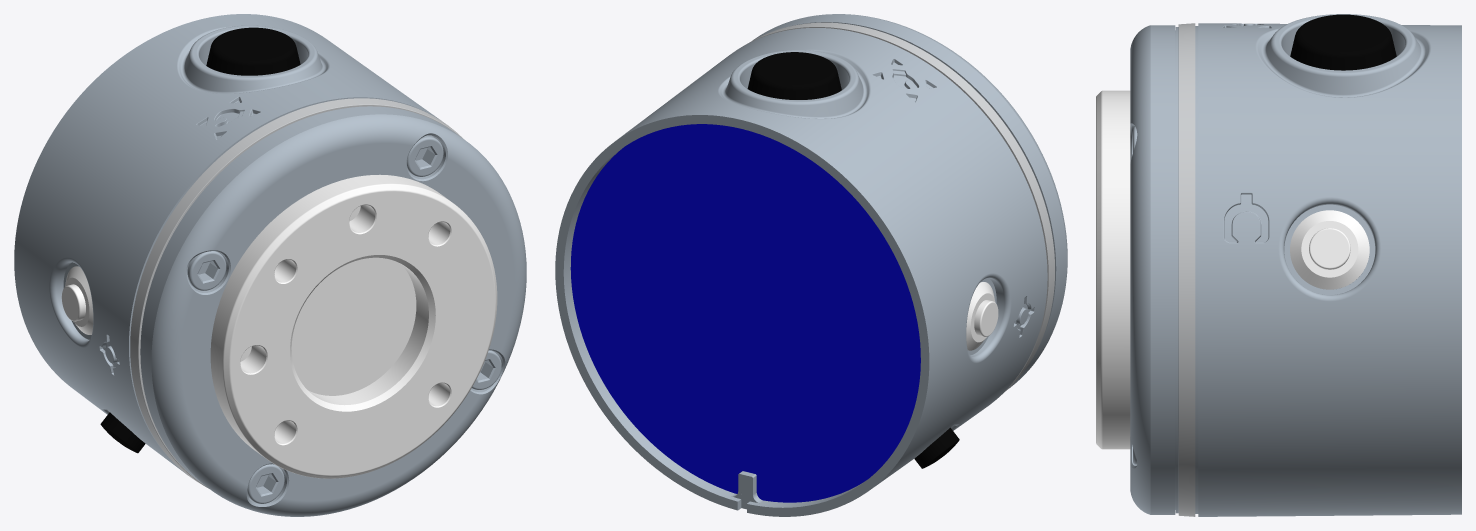
Rendered from tm5s-iox.obj.
The picture shows the model from 3 angles, left to right: view 1: azimuth 30°, elevation 25°; view 2: azimuth 150°, elevation 25°; view 3: azimuth 270°, elevation 25°; orthographic projection. The views are drawn at different scales.
Visible parts, largest first — view 1: 256, 249, 1, 257, 250, 240, 251, 258, 254, 889, 274, 890 (+1 smaller); view 2: 1, 249, 257, 240, 4, 237, 130, 122, 126, 258, 132, 124 (+74 smaller); view 3: 1, 249, 250, 240, 257, 275, 276, 258, 239, 274, 254, 282 (+2 smaller).
Boxes of the visible parts, left/top/right/bottom form: 256: left=222, top=188, right=495, bottom=478; 249: left=140, top=106, right=526, bottom=516; 1: left=14, top=14, right=441, bottom=474; 257: left=177, top=25, right=329, bottom=290; 250: left=210, top=174, right=449, bottom=455; 240: left=130, top=98, right=461, bottom=487; 251: left=247, top=135, right=502, bottom=504; 258: left=206, top=30, right=300, bottom=75; 254: left=353, top=184, right=497, bottom=475; 889: left=49, top=261, right=93, bottom=346; 274: left=237, top=27, right=295, bottom=62; 890: left=65, top=266, right=93, bottom=334; 1: left=555, top=28, right=1047, bottom=516; 249: left=752, top=14, right=1067, bottom=388; 257: left=718, top=50, right=870, bottom=119; 240: left=744, top=22, right=1054, bottom=399; 4: left=758, top=134, right=781, bottom=502; 237: left=563, top=256, right=762, bottom=502; 130: left=713, top=124, right=739, bottom=493; 122: left=743, top=131, right=757, bottom=494; 126: left=722, top=125, right=743, bottom=488; 258: left=747, top=54, right=841, bottom=99; 132: left=717, top=125, right=726, bottom=490; 124: left=731, top=127, right=740, bottom=472; 1: left=1198, top=23, right=1461, bottom=516; 249: left=1130, top=25, right=1178, bottom=514; 250: left=1103, top=90, right=1130, bottom=449; 240: left=1179, top=23, right=1195, bottom=516; 257: left=1256, top=14, right=1430, bottom=97; 275: left=1223, top=19, right=1380, bottom=299; 276: left=1290, top=210, right=1369, bottom=289; 258: left=1290, top=14, right=1396, bottom=70; 239: left=1195, top=26, right=1198, bottom=513; 274: left=1295, top=34, right=1391, bottom=56; 254: left=1097, top=103, right=1102, bottom=448; 282: left=1310, top=229, right=1348, bottom=268.
Bounding box in the file's own units: 0.0868 × 0.0893 × 0.0642.
